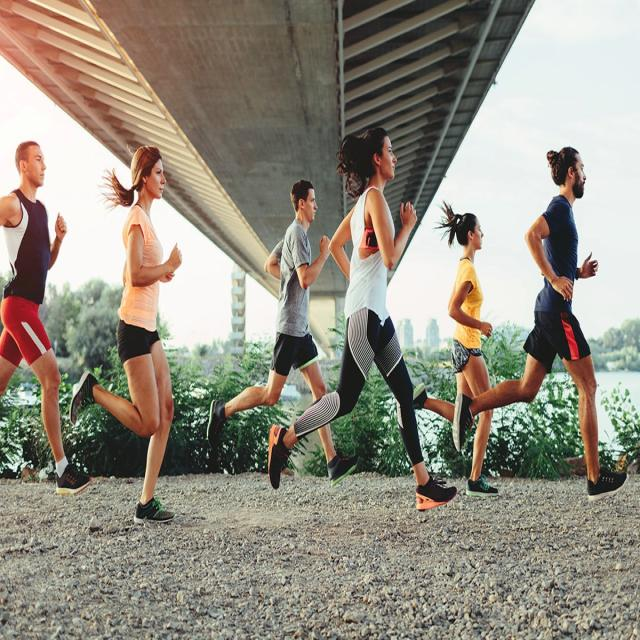running: (500, 148, 630, 503), (74, 141, 188, 526), (329, 123, 442, 510), (204, 176, 329, 499), (0, 136, 74, 497), (446, 205, 497, 506)
